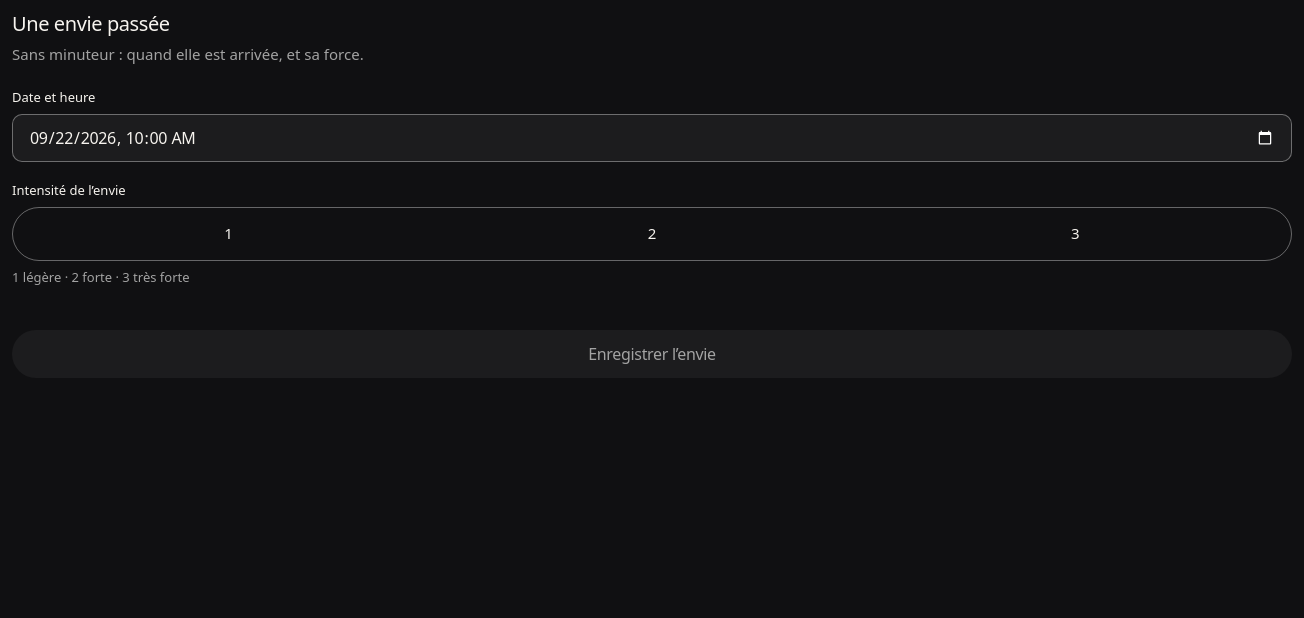
Scenario: says so when the date is empty instead of doing nothing
The width and height of the screenshot is (1304, 618).
Clear the field labelled "Date et heure" at (652, 138), box [12,114,1292,162]
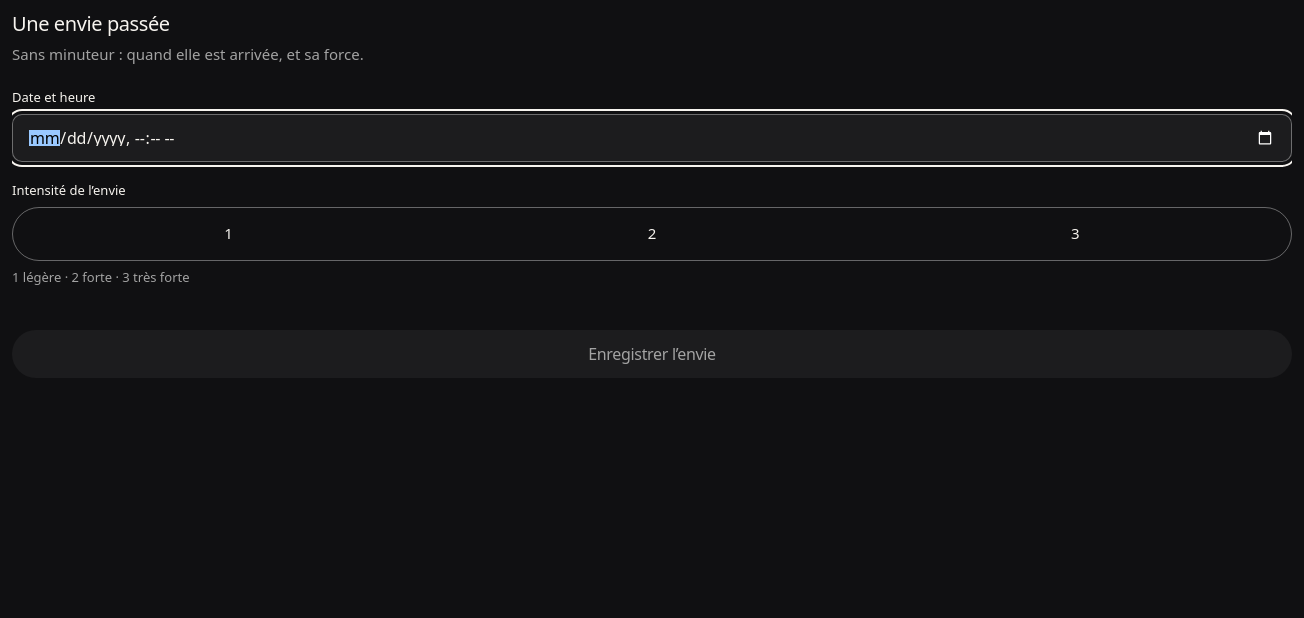
Click the button "1" at (229, 234), box [17,212,440,256]
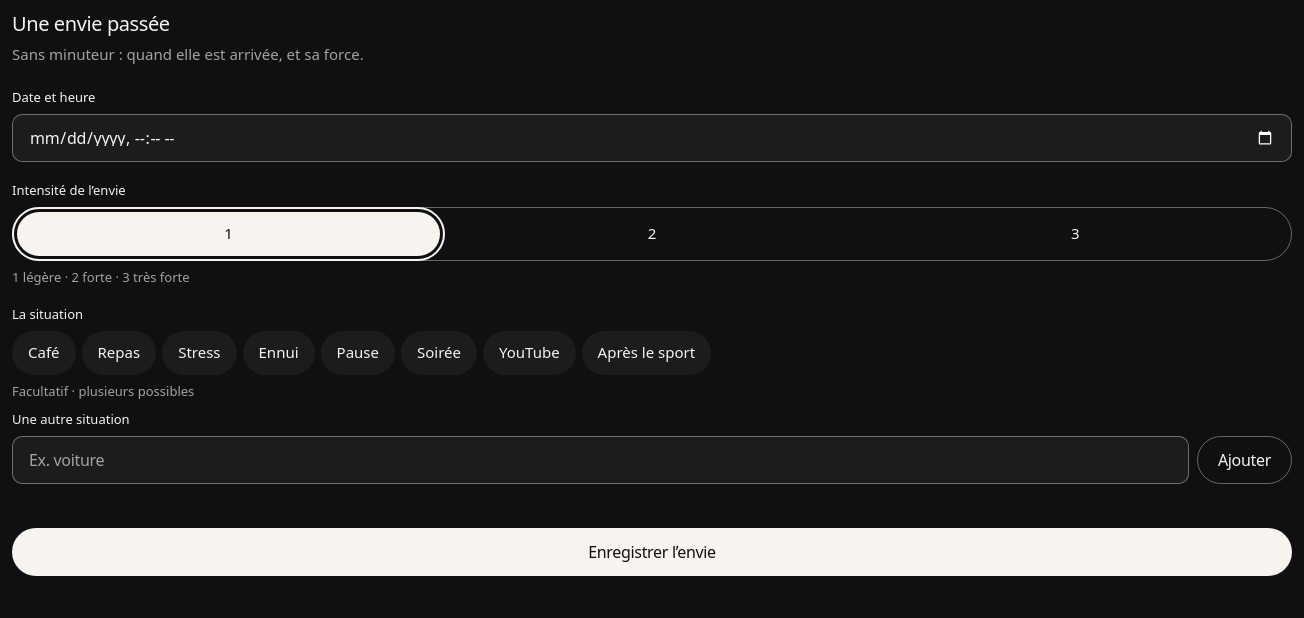
Click the button "Enregistrer l’envie" at (652, 552), box [12,528,1292,576]
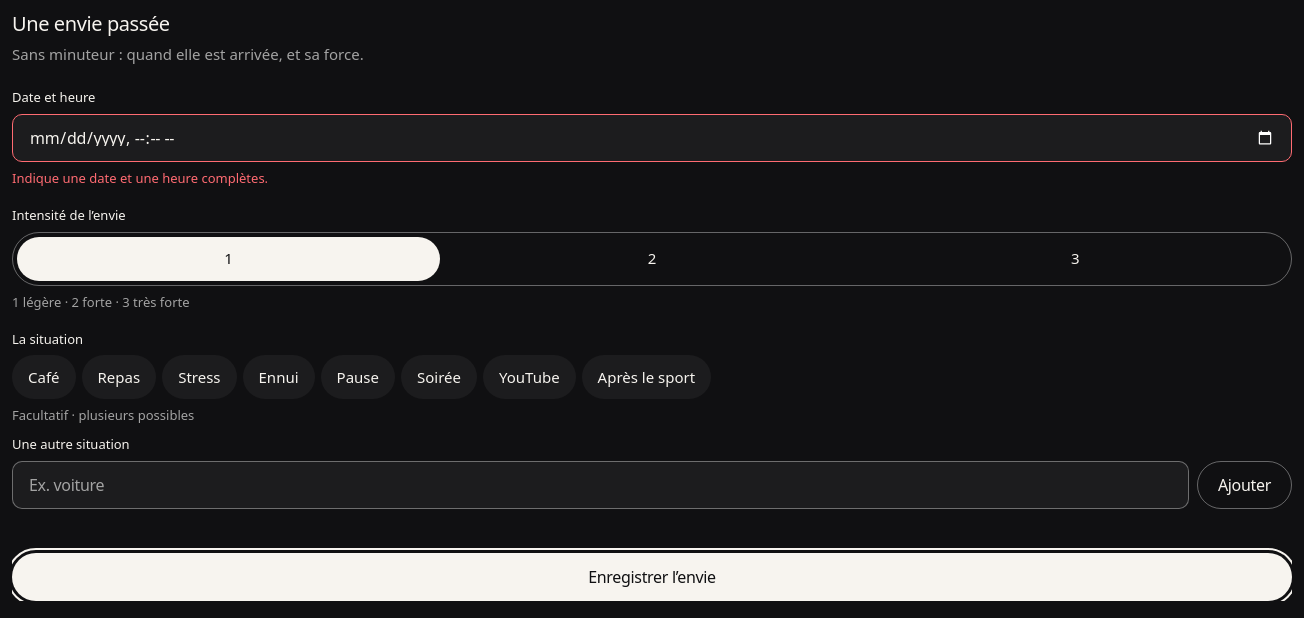
Expected: the message reads "Indique une date et une heure complètes.", [12,169,268,187]
